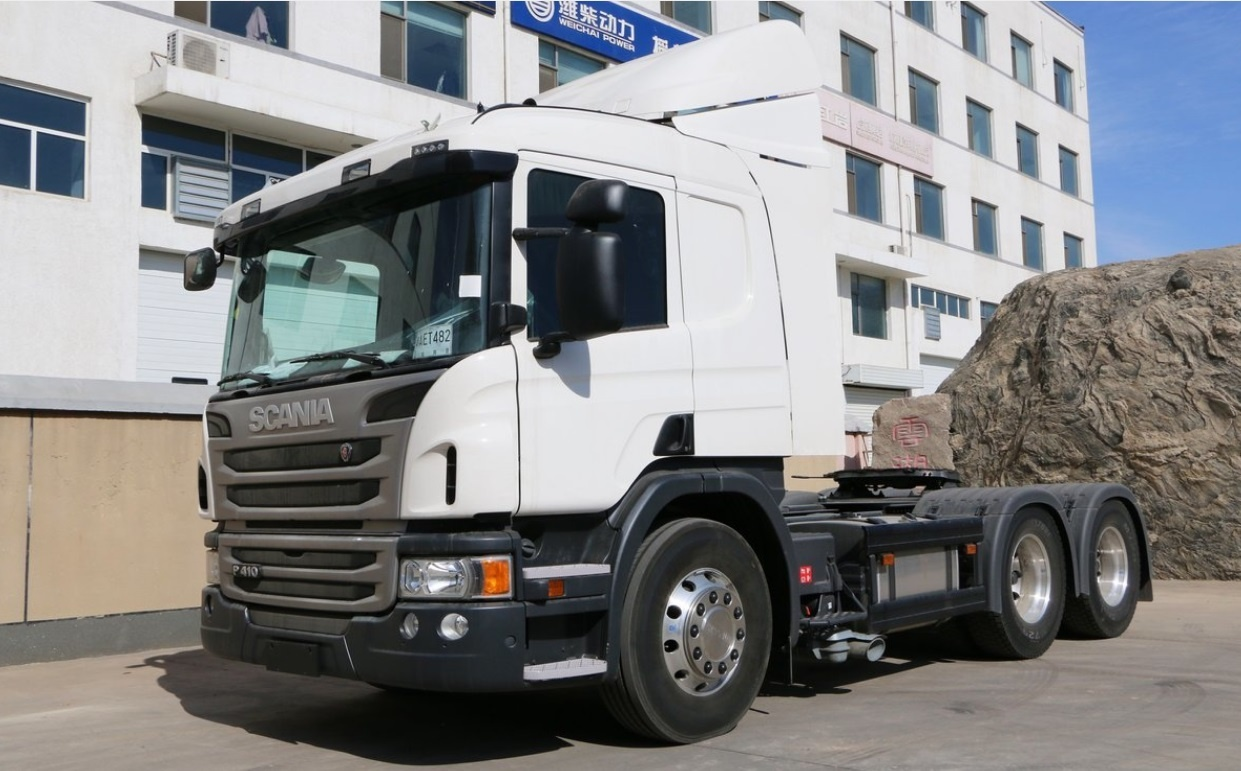minibus: (190, 74, 1161, 711)
